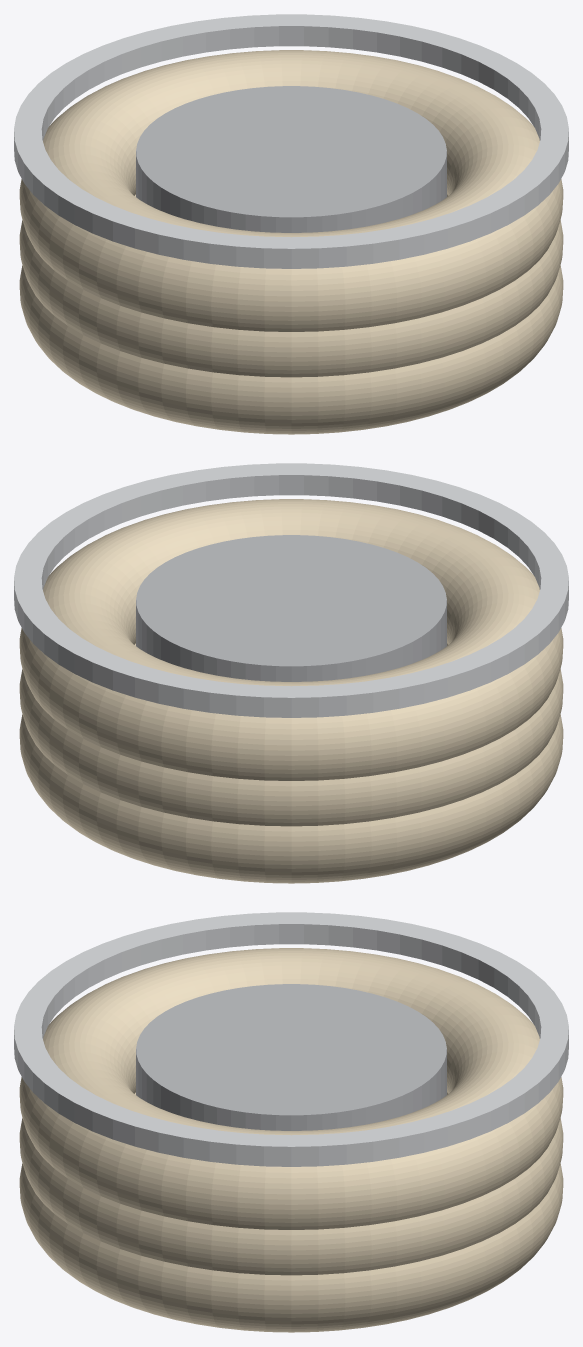
File: stage06_hiad_xl.glb
The picture shows the model from 3 angles, top to bottom: view 1: azimuth 30°, elevation 25°; view 2: azimuth 150°, elevation 25°; view 3: azimuth 270°, elevation 25°; orthographic projection.
Visible parts, largest first — view 1: packed_tori, mount_ring, centre_body; view 2: packed_tori, mount_ring, centre_body; view 3: packed_tori, mount_ring, centre_body.
Part boxes in pixels (box(x1,y1,x2,y2)): packed_tori: box(19, 50, 563, 434); mount_ring: box(14, 14, 568, 268); centre_body: box(136, 86, 446, 232); packed_tori: box(19, 499, 563, 883); mount_ring: box(14, 463, 568, 717); centre_body: box(136, 535, 446, 681); packed_tori: box(19, 948, 563, 1332); mount_ring: box(14, 912, 568, 1166); centre_body: box(136, 984, 446, 1130).
Size of the model in its own units: 5 by 2.5 by 5.
